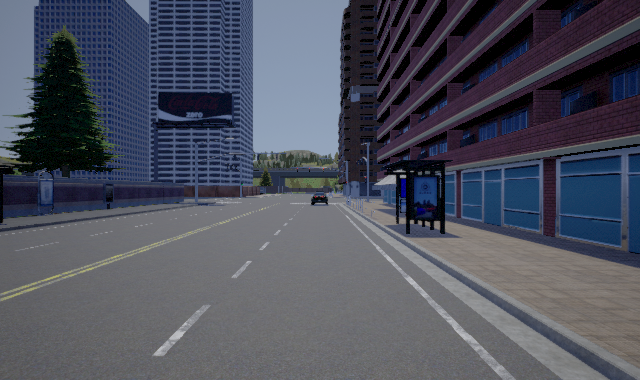vehicle: (310, 190, 330, 205)
